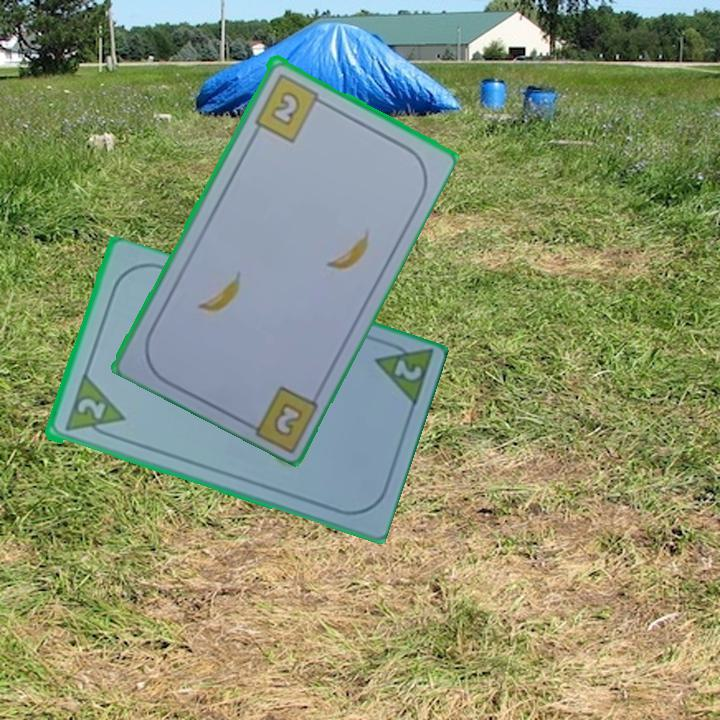2b: (251, 69, 329, 144), (272, 402, 303, 436)
2p: (369, 336, 434, 412), (60, 373, 127, 443)
